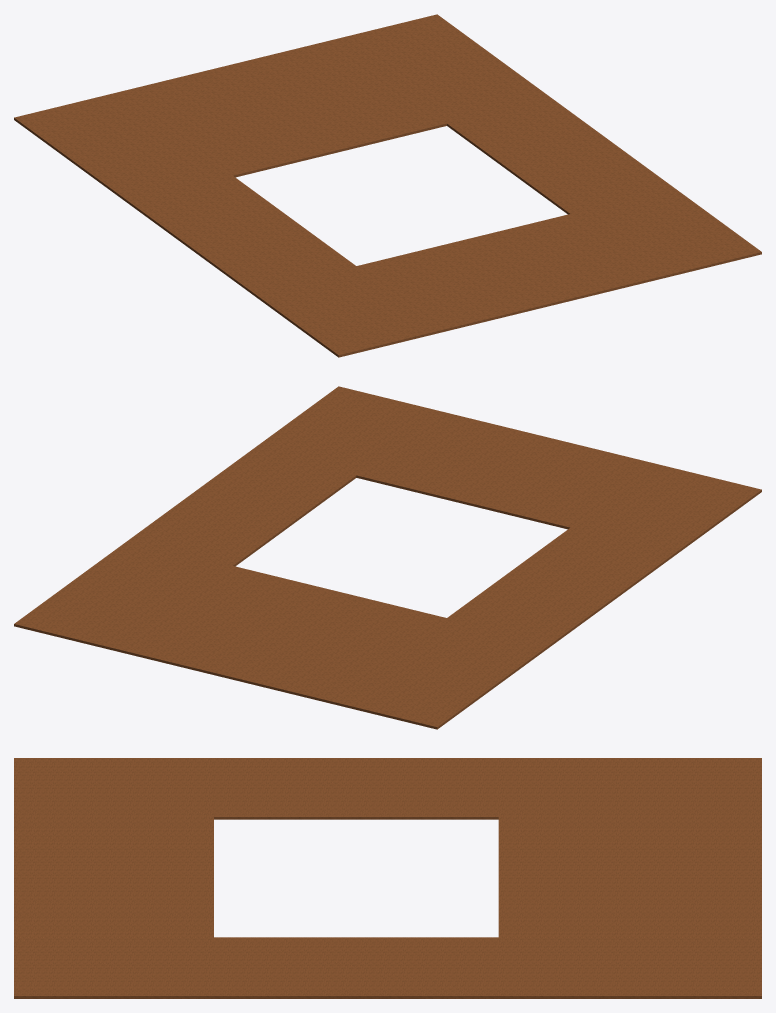
File: PrimerPiso.fbx
3 renders of one model, top to bottom at view 1: azimuth 30°, elevation 25°; view 2: azimuth 150°, elevation 25°; view 3: azimuth 270°, elevation 25°, orthographic. The views are drawn at different scales.
Parts seen in each view (by area): view 1: PrimerPiso; view 2: PrimerPiso; view 3: PrimerPiso.
Boxes of the visible parts, x1,y1,x2,y2 form: PrimerPiso: (14,14,761,357); PrimerPiso: (14,386,761,729); PrimerPiso: (14,758,761,998).
Size of what is drawn, in the model's own units: 4915 by 3700 by 20.
